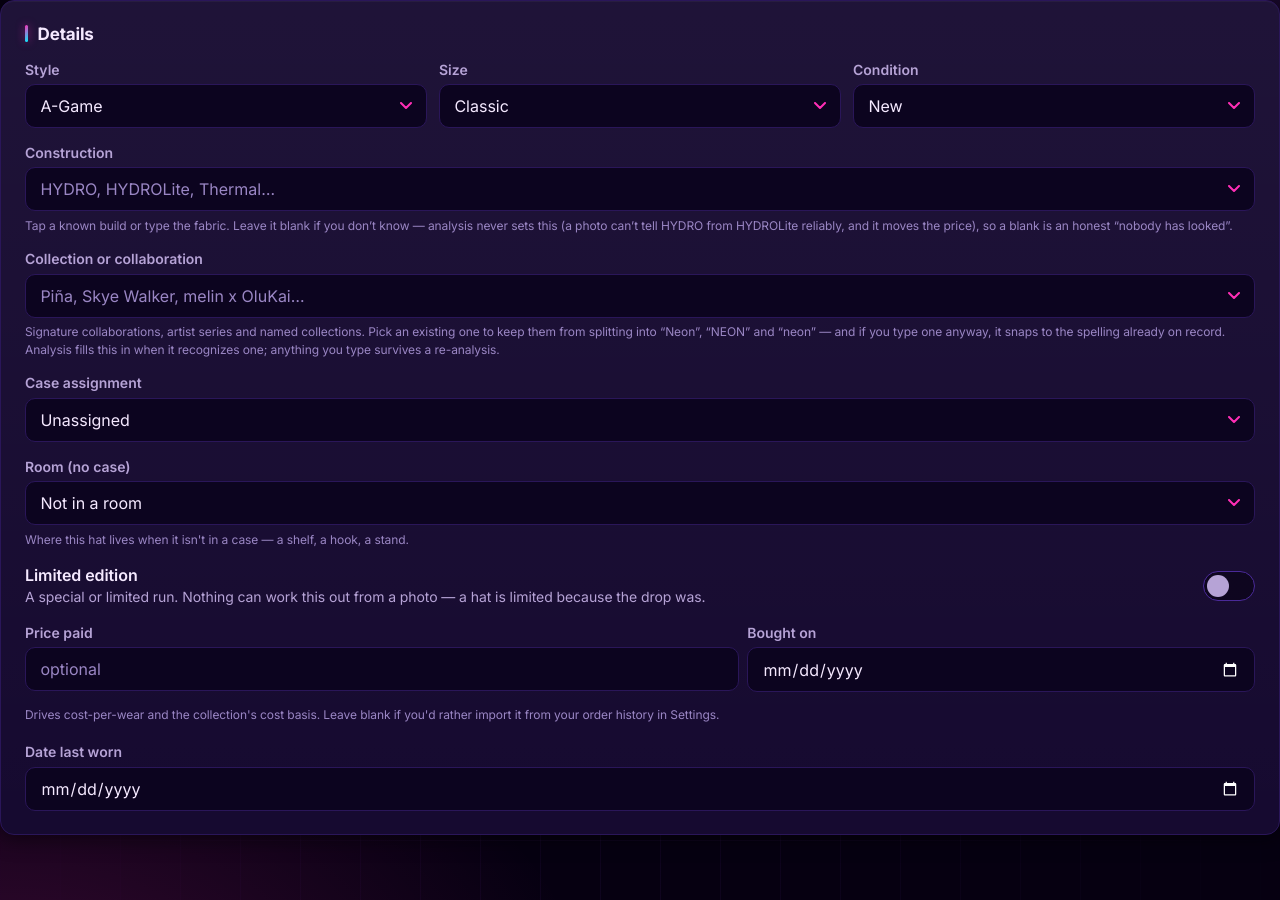
Test: HatBasicsCard › lists real cases with their type, occupancy and room
Click the dropdown labelled "Case assignment" at (640, 420), box [25,398,1255,442]
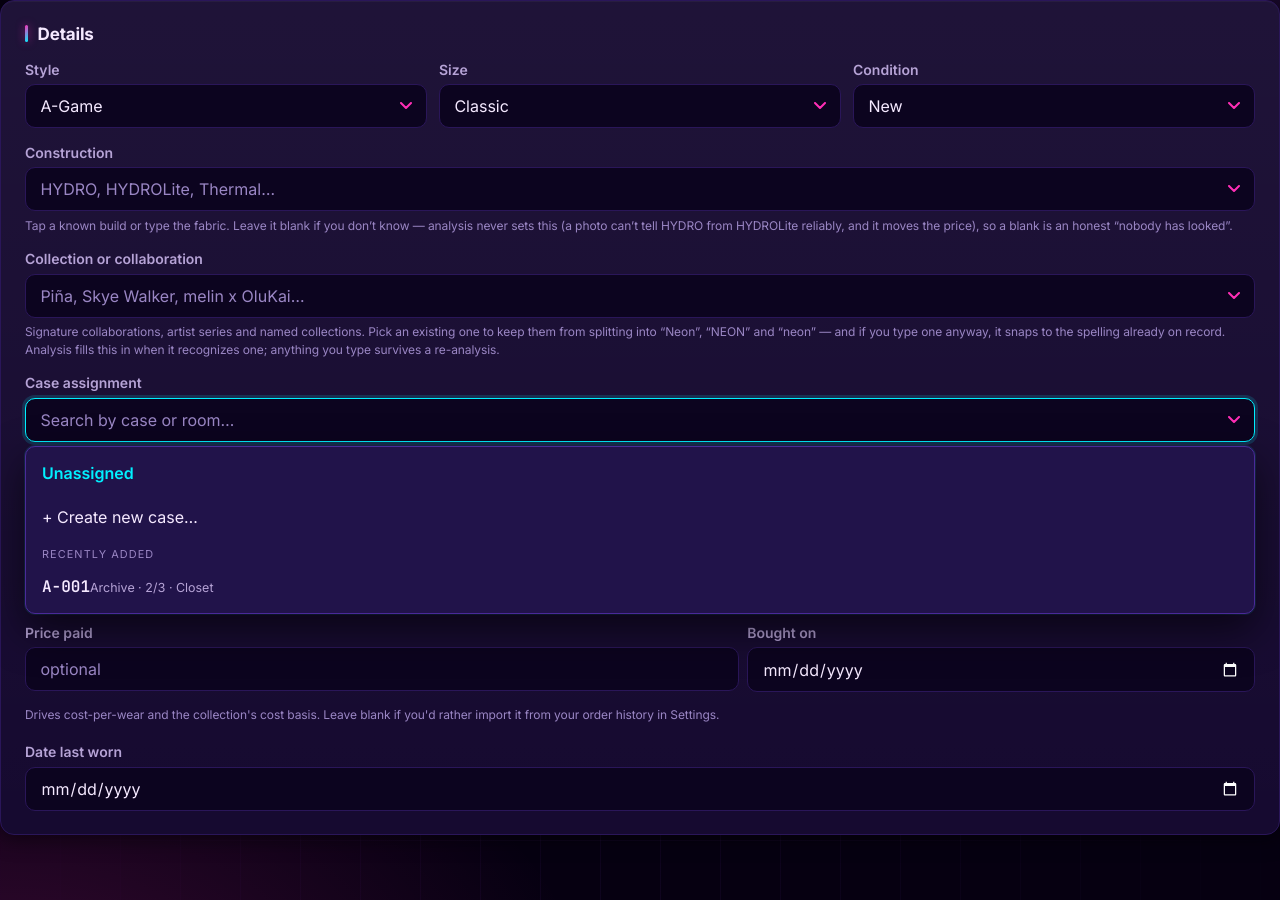
Check: the option "A-001Archive · 2/3 · Closet" is shown, box [30,565,1250,609]
Check: the option "Unassigned" is shown, box [30,451,1250,495]
